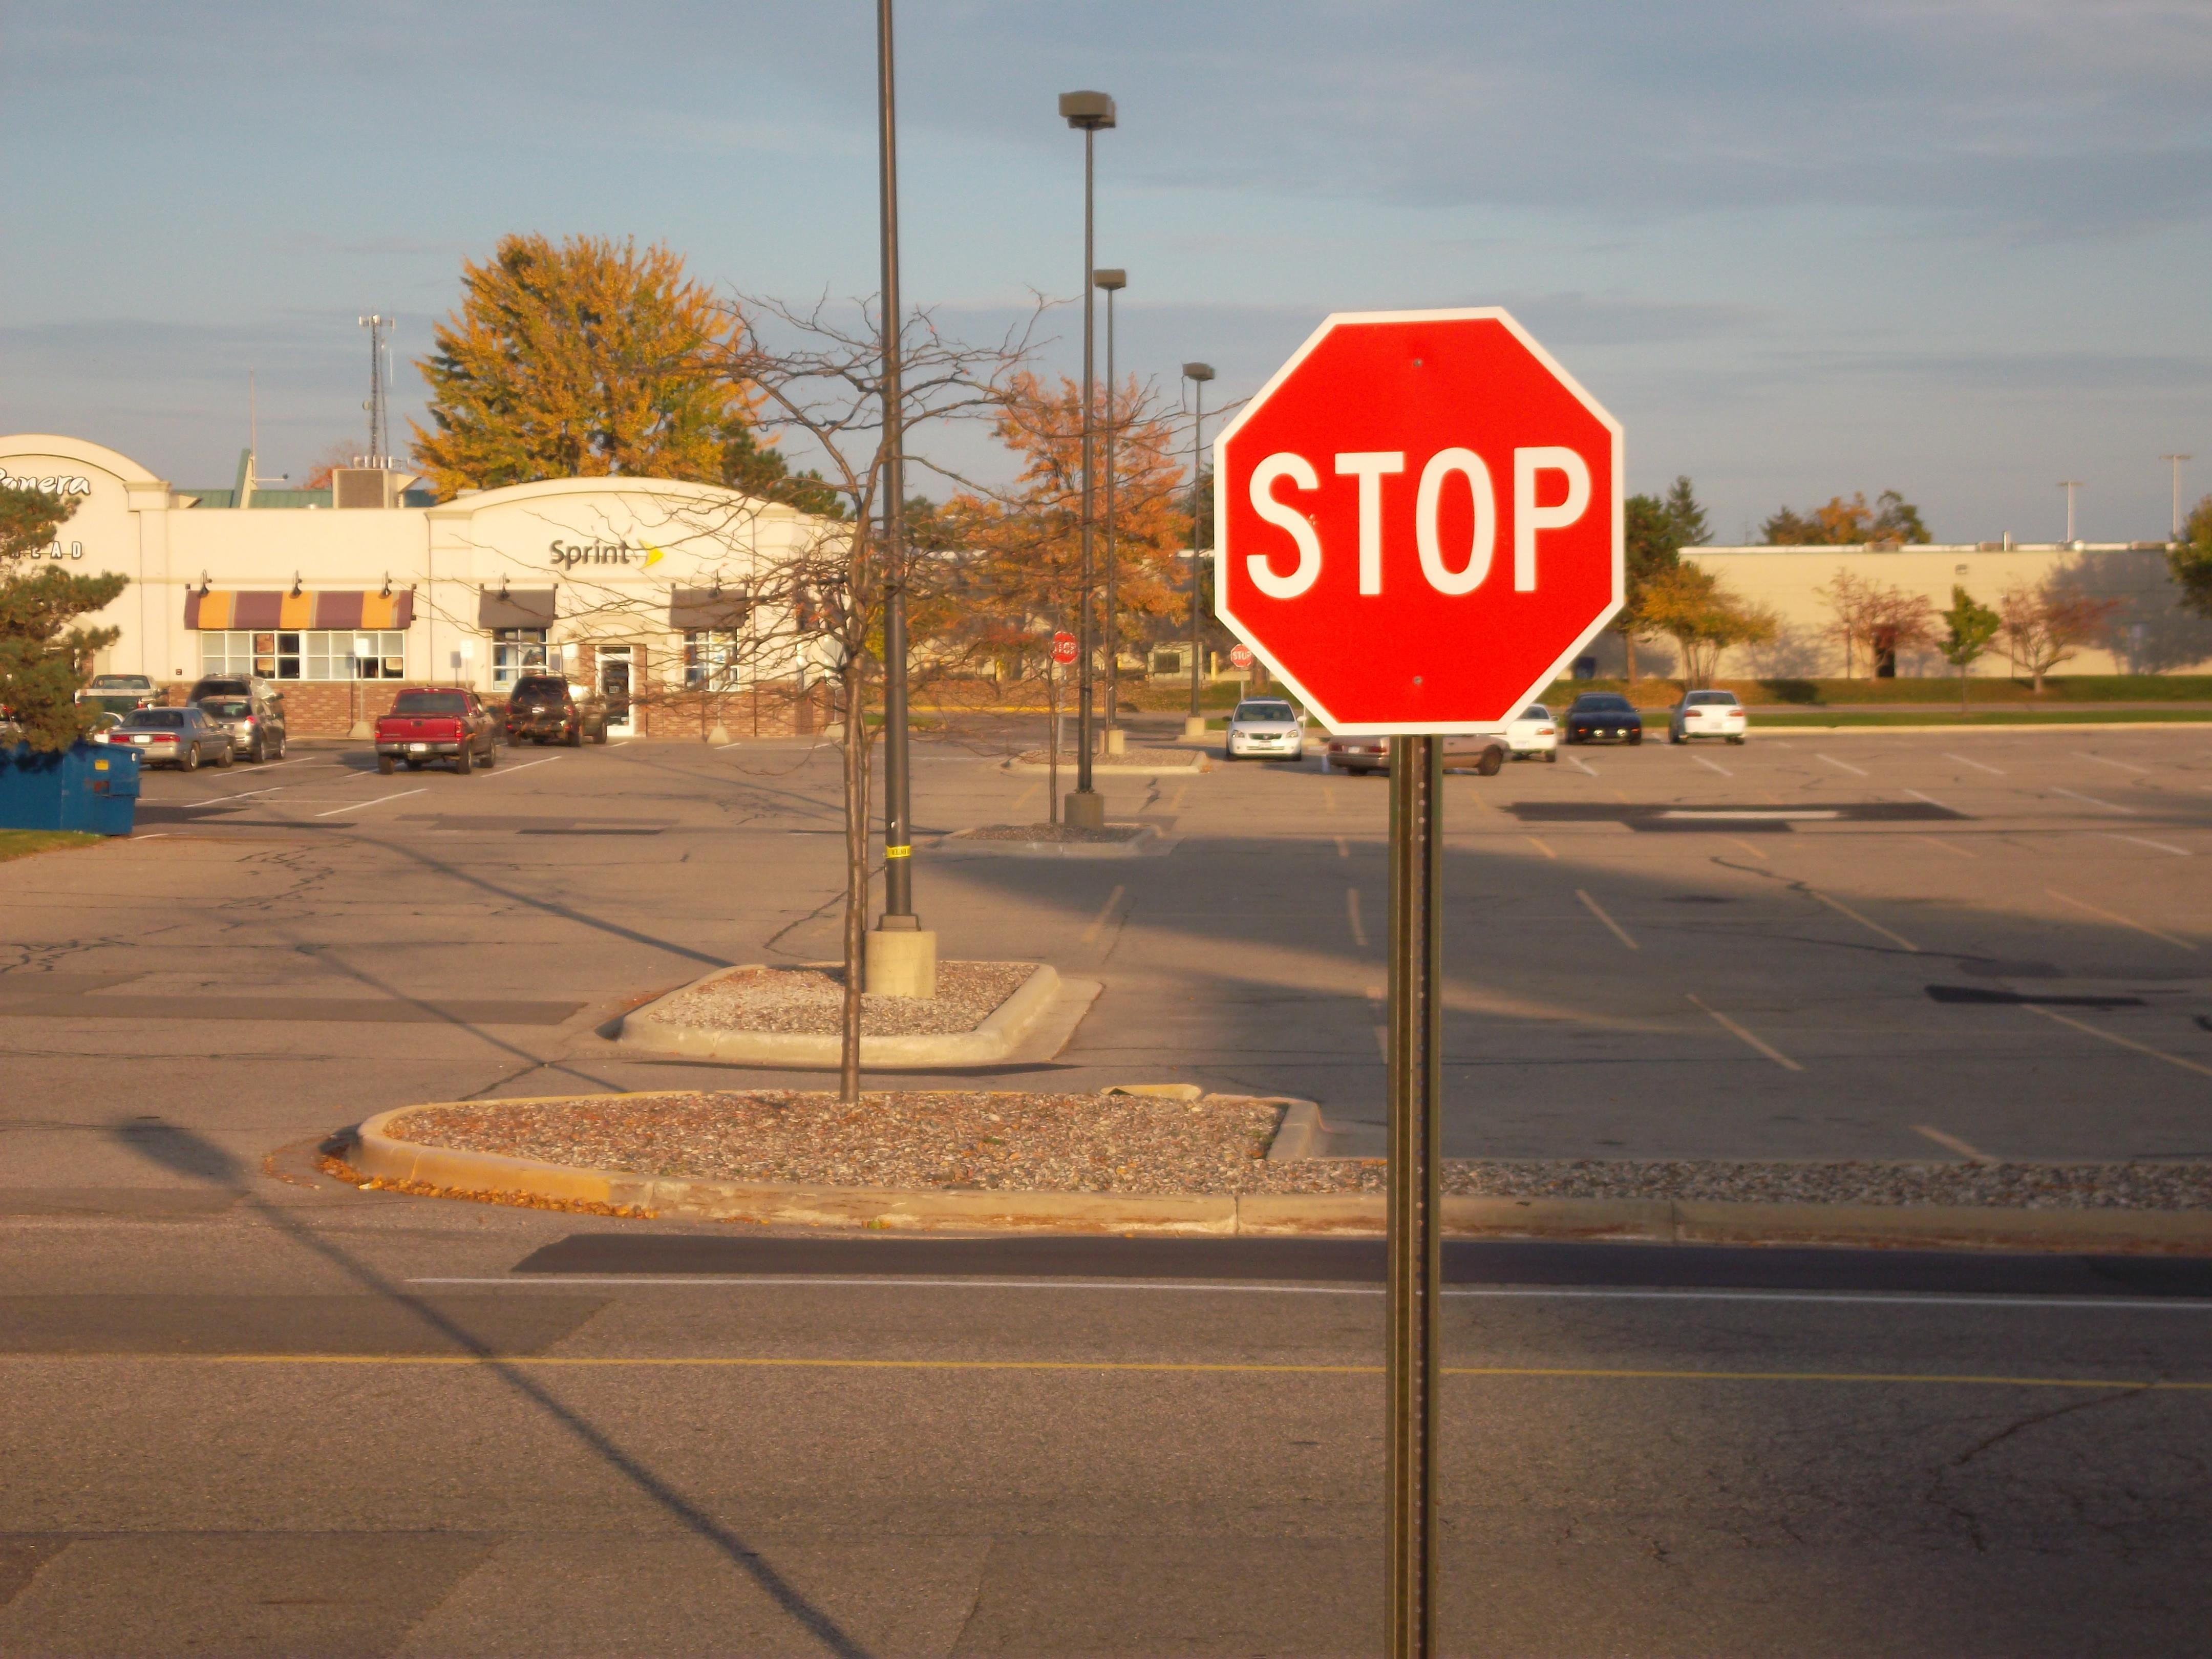stop: (1211, 305, 1627, 746)
